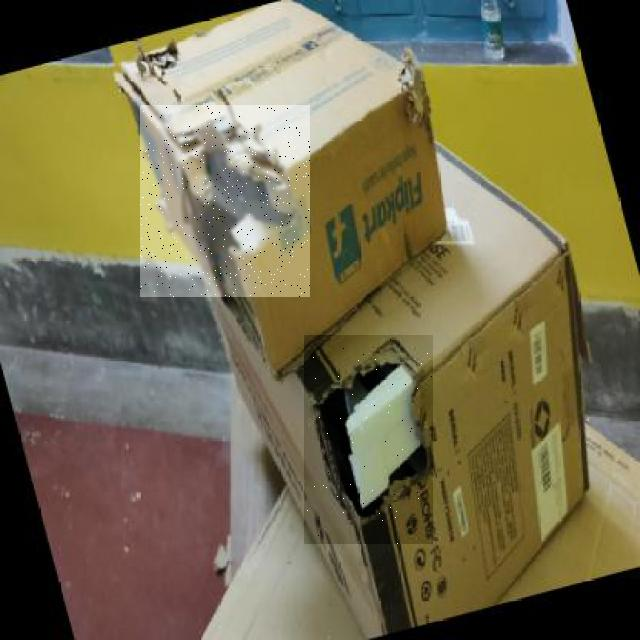leakage: (140, 106, 310, 297)
tear: (305, 337, 433, 544)
